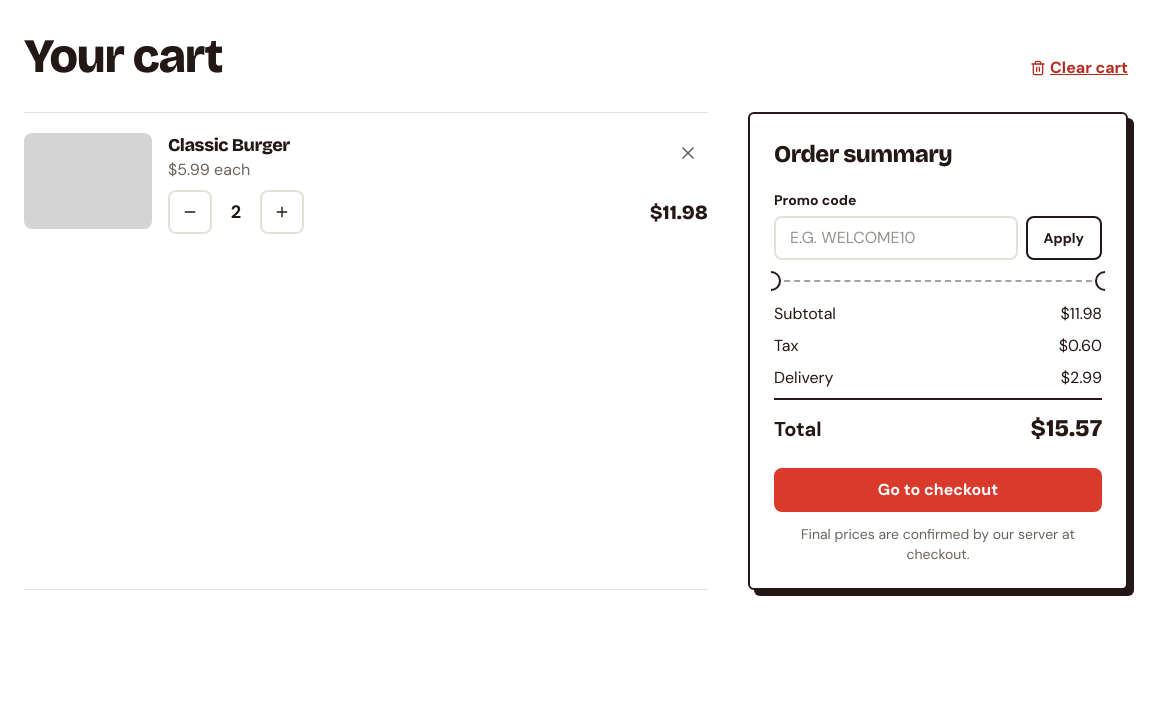
Test: Cart page › shows the reason when a promo code is refused, then re-prices without it
Check: the text "$15.57" is shown, box [1031,412,1102,444]
Type "OLDCODE" into the field labelled "Promo code". click: {"x": 896, "y": 238}
box: [774,216,1018,260]
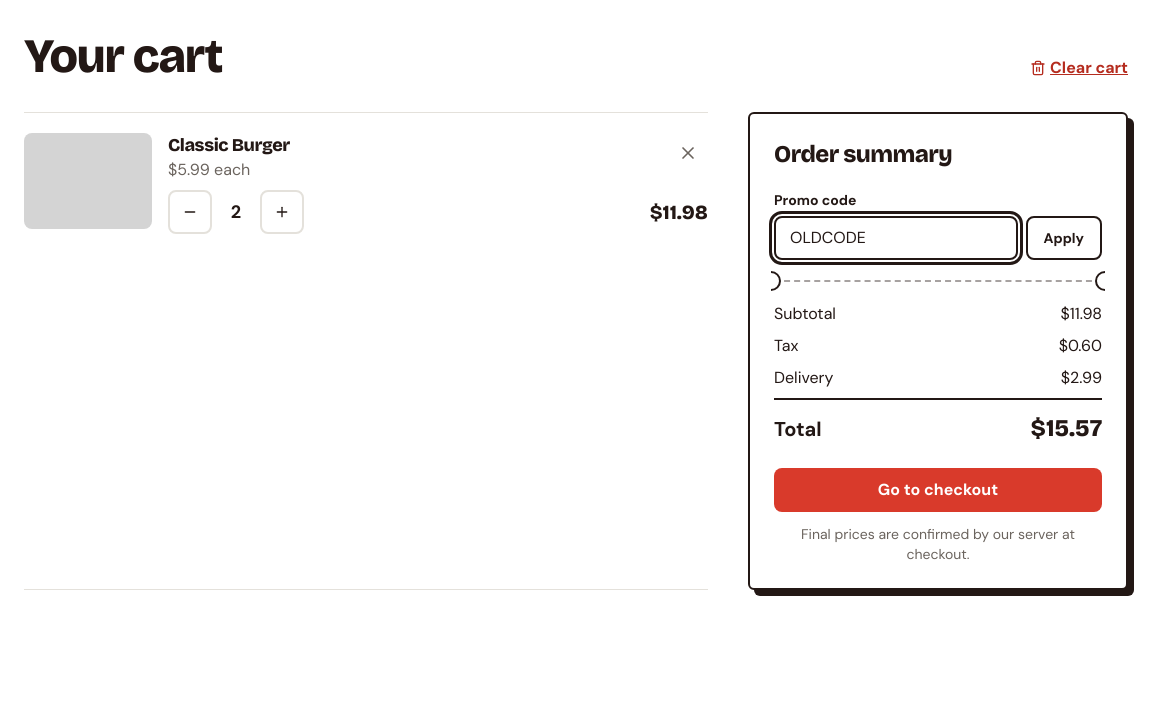
Click the button "Apply". click: {"x": 1064, "y": 238}
box: [1026,216,1102,260]
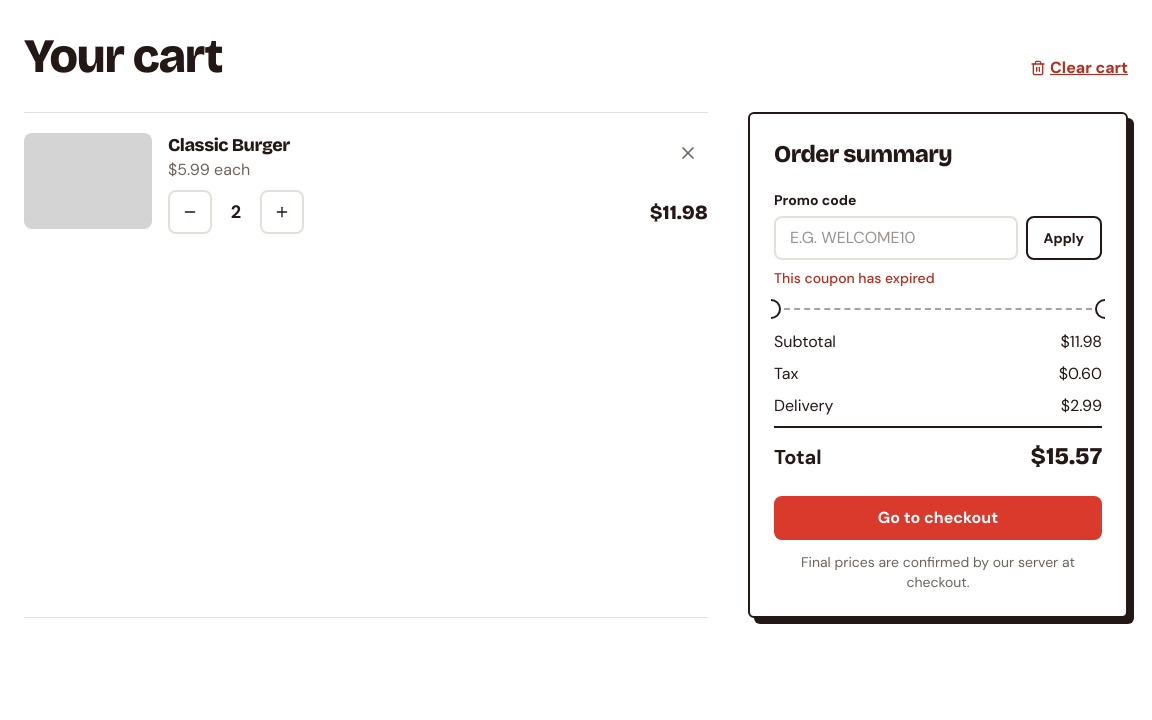
Check: the text "$15.57" is shown, box [1031,440,1102,472]
Check: the text "This coupon has expired" is shown, box [774,269,935,287]
